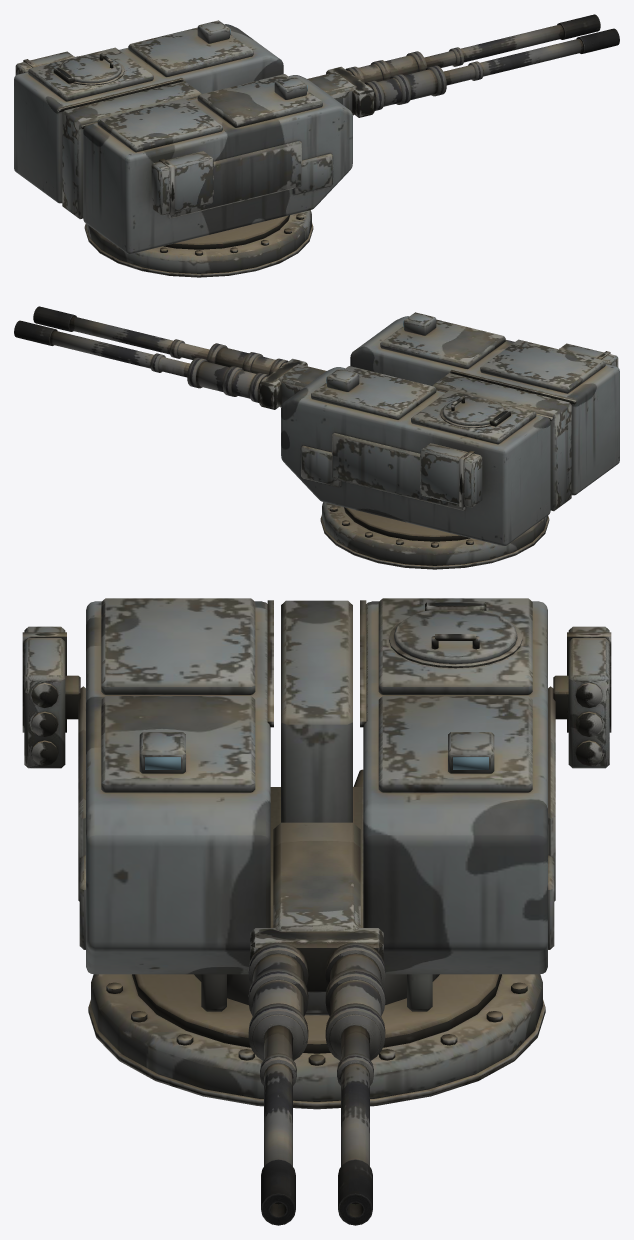
File: turret_kit_t1_shark.glb
The picture shows the model from 3 angles, top to bottom: view 1: azimuth 30°, elevation 25°; view 2: azimuth 150°, elevation 25°; view 3: azimuth 270°, elevation 25°; orthographic projection. The views are drawn at different scales.
Parts seen in each view (by area): view 1: turret_twin_t1, guns, pods; view 2: turret_twin_t1, guns, pods; view 3: turret_twin_t1, guns, pods.
Part boxes in pixels (x1,y1,x2,y2): turret_twin_t1: [14, 20, 352, 277]; guns: [308, 14, 619, 117]; pods: [15, 51, 213, 215]; turret_twin_t1: [281, 312, 619, 569]; guns: [14, 306, 325, 409]; pods: [420, 343, 618, 507]; turret_twin_t1: [78, 598, 555, 1109]; guns: [248, 822, 385, 1225]; pods: [22, 626, 611, 768].
Bounding box in the file's own units: 2.41 × 0.695 × 1.15.
4 materials, 3 textured.
